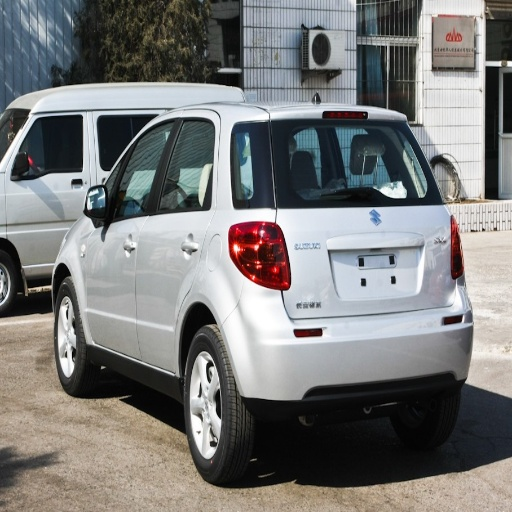back_bumper: (220, 275, 474, 444)
back_glass: (241, 123, 442, 204)
back_left_door: (140, 114, 218, 371)
back_left_light: (228, 222, 288, 291)
tailgate: (286, 205, 444, 316)
trunk: (380, 207, 451, 308), (278, 210, 374, 274)
